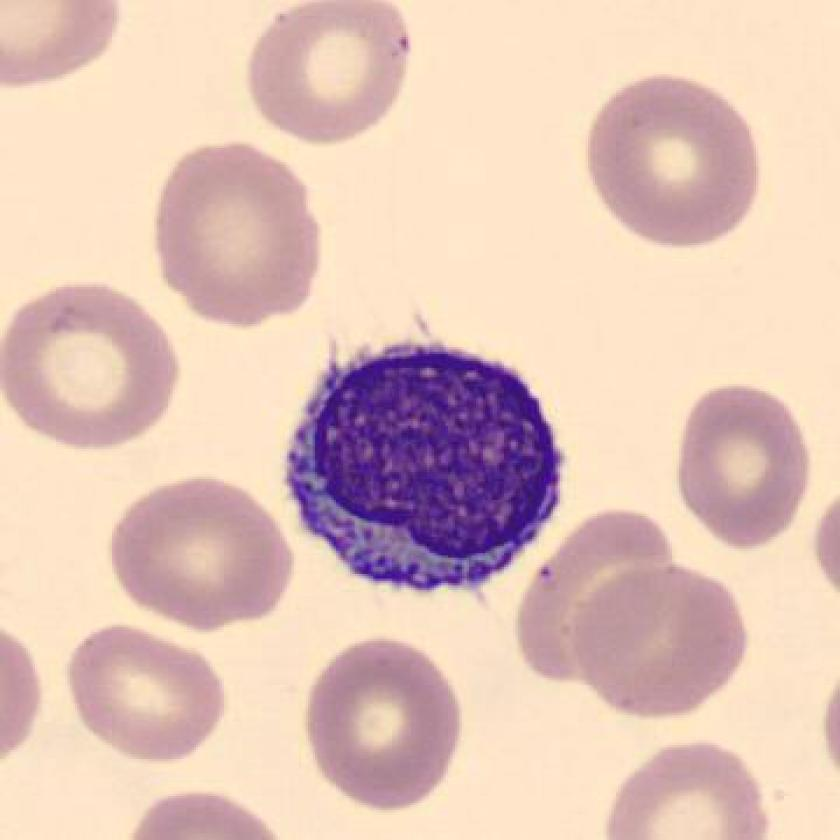lymphocyte: (269, 327, 582, 621)
